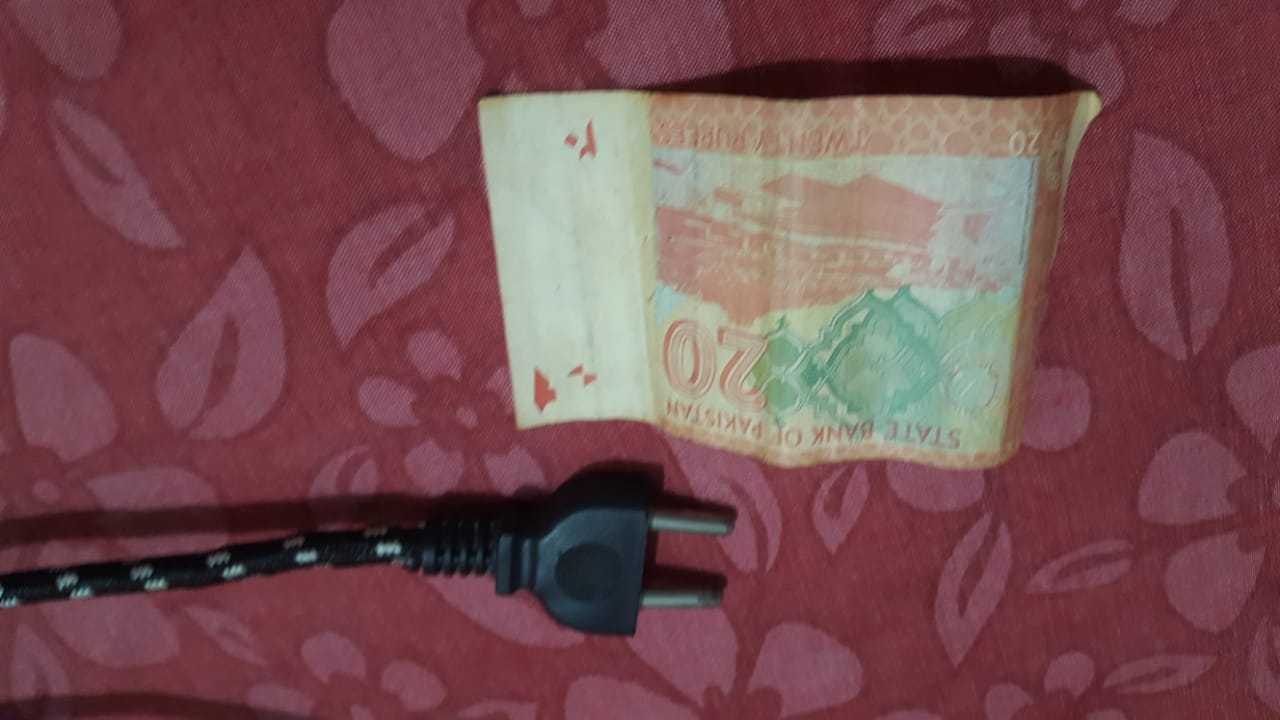20 rupee: (461, 52, 1138, 492)
